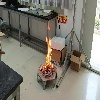fire: (42, 23, 53, 73)
